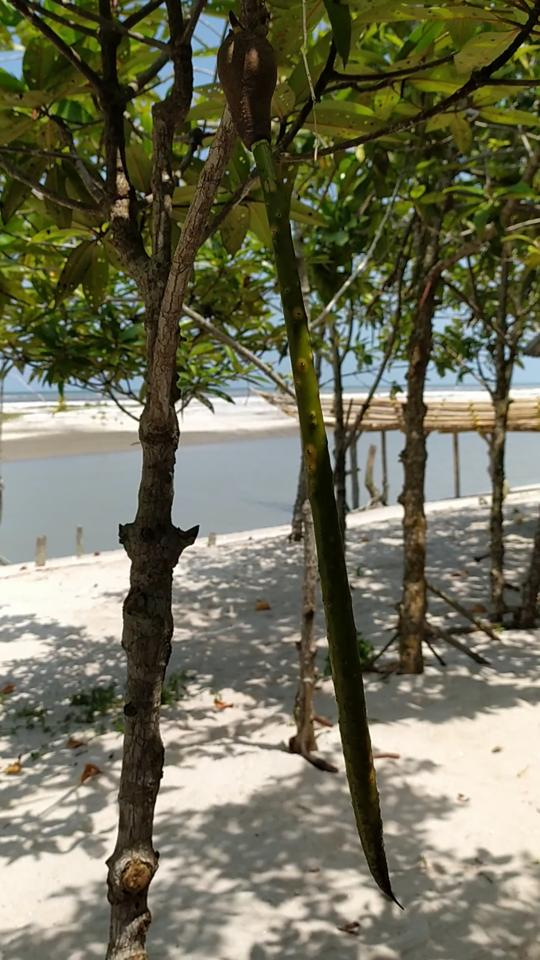setengah matang: (202, 21, 413, 914)
